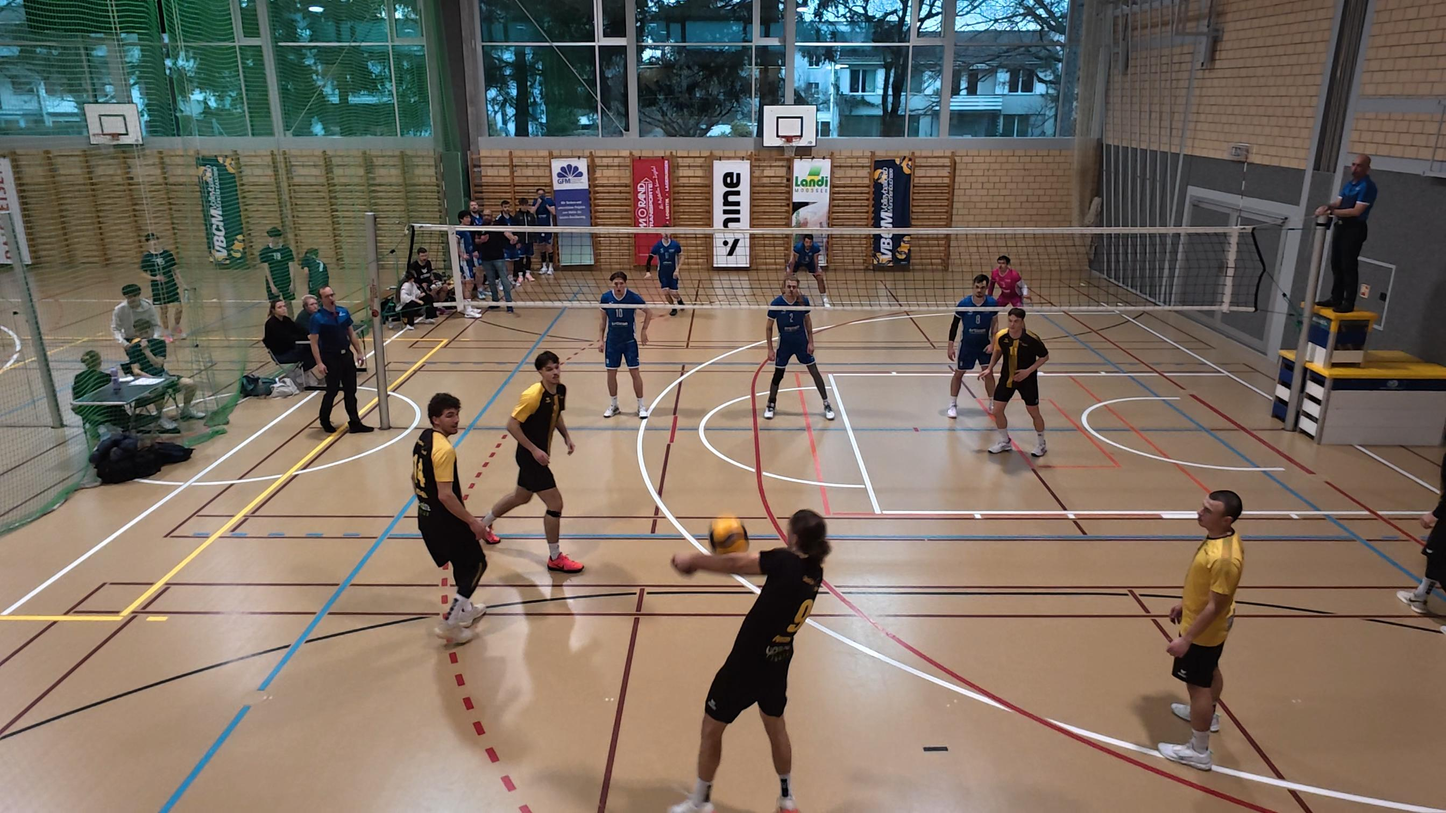Player: (1158, 489, 1245, 770), (481, 350, 585, 572), (412, 393, 486, 645), (763, 276, 835, 420), (983, 306, 1050, 457), (597, 270, 650, 419), (945, 274, 998, 419), (787, 226, 833, 308), (648, 229, 684, 317), (990, 254, 1028, 319)
Receive: (661, 505, 836, 813)
ball: (705, 514, 748, 556)
